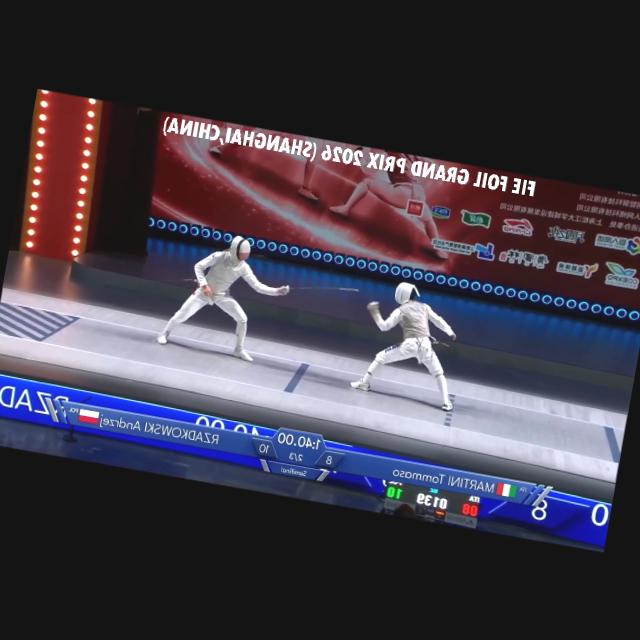blade: (279, 272, 362, 305)
